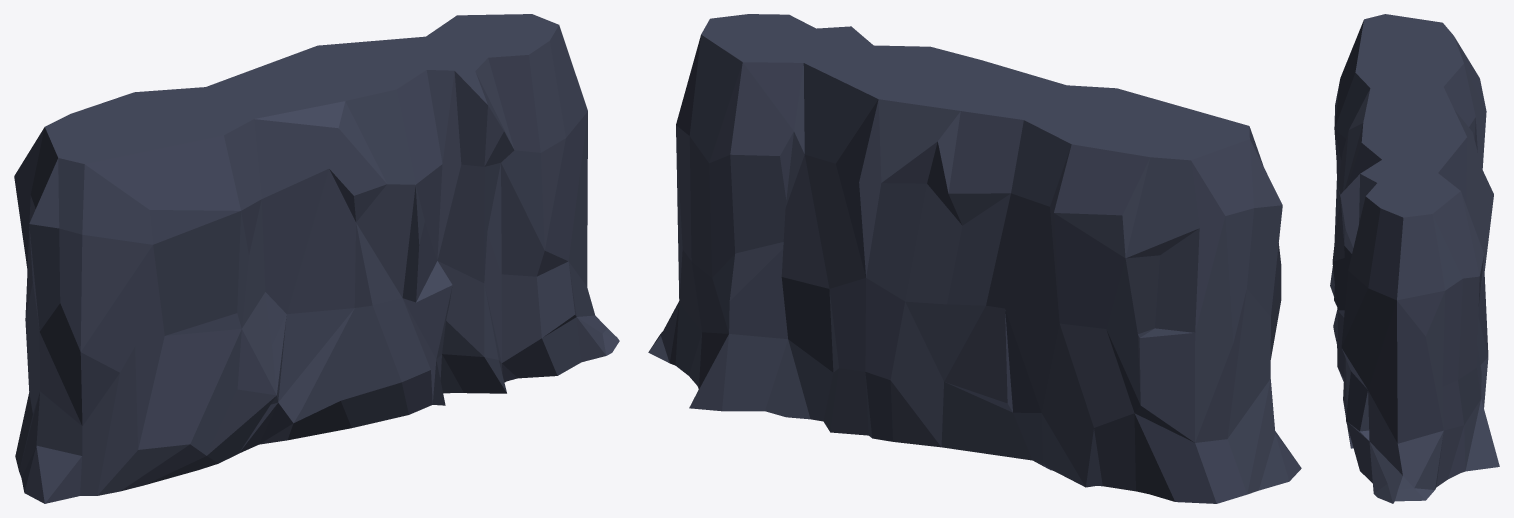
The model's file is Wall_01.fbx.
The picture shows the model from 3 angles, left to right: view 1: azimuth 30°, elevation 25°; view 2: azimuth 150°, elevation 25°; view 3: azimuth 270°, elevation 25°; orthographic projection. The views are drawn at different scales.
Parts seen in each view (by area): view 1: Wall_1; view 2: Wall_1; view 3: Wall_1.
Boxes of the visible parts, left/top/right/bottom form: Wall_1: left=14, top=14, right=619, bottom=503; Wall_1: left=648, top=14, right=1301, bottom=503; Wall_1: left=1330, top=14, right=1499, bottom=503.
Bounding box in the file's own units: 151 × 78 × 45.26.
